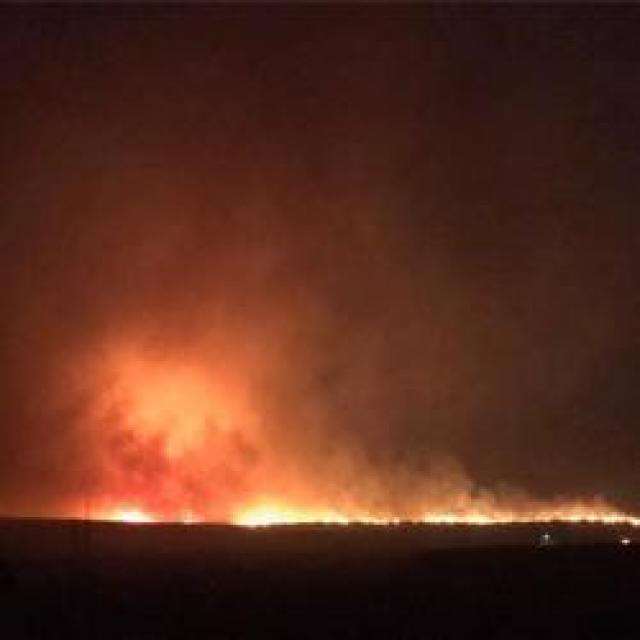fire: (80, 483, 640, 540)
